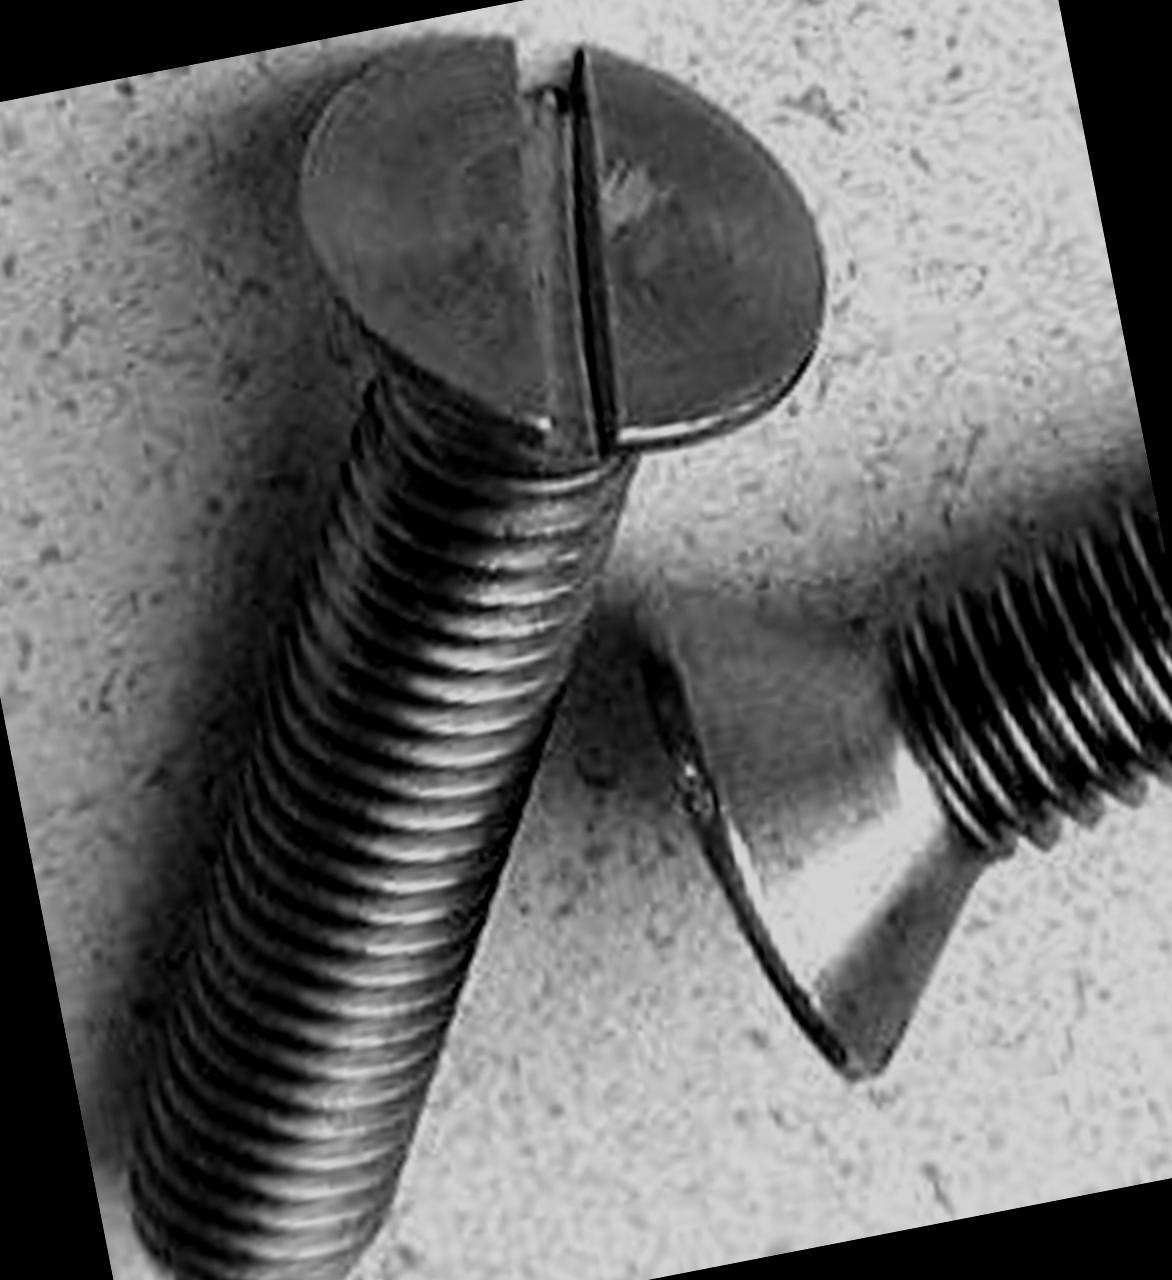screw: (261, 0, 861, 517)
